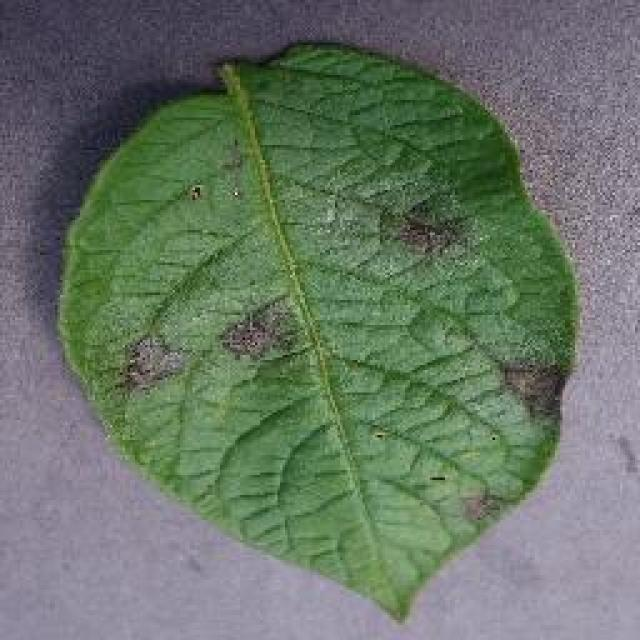Potato___Late_blight: (57, 46, 577, 625)
